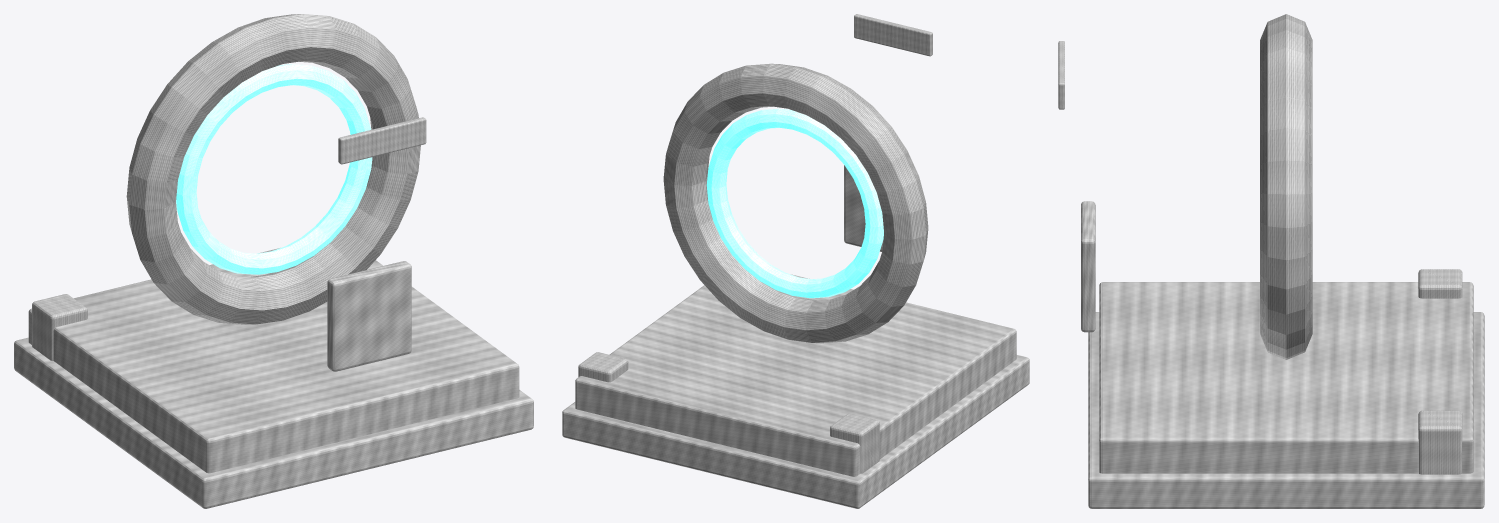
The model's file is hypertube_entrance_variant_a.glb.
3 renders of one model, left to right at view 1: azimuth 30°, elevation 25°; view 2: azimuth 150°, elevation 25°; view 3: azimuth 270°, elevation 25°, orthographic. The views are drawn at different scales.
Parts seen in each view (by area): view 1: Tube support base, Entrance acceleration ring.001, Foundation, Inner energy ring.001, Entry control panel, Asset ID plate.001, Service foot; view 2: Tube support base, Entrance acceleration ring.001, Foundation, Inner energy ring.001, Asset ID plate.001, Service foot, Entry control panel, Service foot.001; view 3: Tube support base, Foundation, Entrance acceleration ring.001, Service foot.001, Entry control panel, Service foot, Asset ID plate.001.
Part boxes in pixels (left/top/right/bottom): Tube support base: left=28, top=248, right=519, bottom=473; Entrance acceleration ring.001: left=126, top=14, right=420, bottom=324; Foundation: left=14, top=337, right=533, bottom=508; Inner energy ring.001: left=176, top=64, right=372, bottom=274; Entry control panel: left=327, top=261, right=411, bottom=371; Asset ID plate.001: left=338, top=117, right=426, bottom=164; Service foot: left=32, top=294, right=87, bottom=360; Tube support base: left=575, top=274, right=1016, bottom=476; Entrance acceleration ring.001: left=663, top=63, right=928, bottom=343; Foundation: left=562, top=355, right=1029, bottom=508; Inner energy ring.001: left=706, top=108, right=883, bottom=298; Asset ID plate.001: left=854, top=14, right=932, bottom=56; Service foot: left=830, top=413, right=879, bottom=473; Entry control panel: left=844, top=165, right=883, bottom=251; Service foot.001: left=578, top=352, right=628, bottom=382; Tube support base: left=1099, top=282, right=1473, bottom=473; Foundation: left=1088, top=312, right=1484, bottom=508; Entrance acceleration ring.001: left=1260, top=14, right=1312, bottom=359; Service foot.001: left=1418, top=410, right=1462, bottom=474; Entry control panel: left=1081, top=201, right=1095, bottom=332; Service foot: left=1418, top=269, right=1462, bottom=298; Asset ID plate.001: left=1058, top=41, right=1064, bottom=109.
Size of what is drawn, in the model's own units: 2.7 by 2.98 by 2.9.
Materials: 6 (6 with a texture image).
